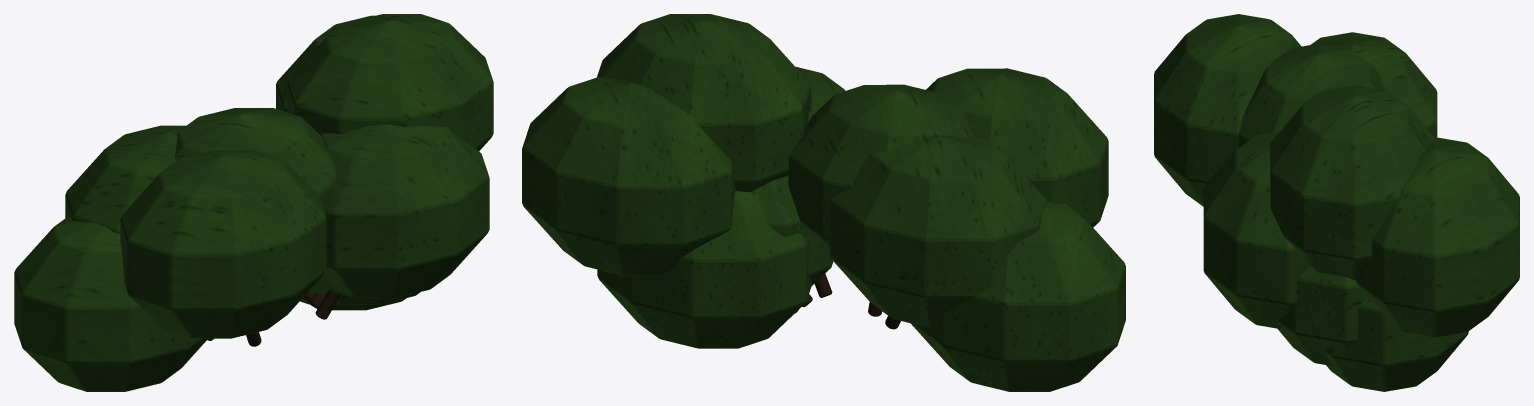
The model's file is PROP-7FFB497B4844_lod1.glb.
The picture shows the model from 3 angles, left to right: view 1: azimuth 30°, elevation 25°; view 2: azimuth 150°, elevation 25°; view 3: azimuth 270°, elevation 25°; orthographic projection. The views are drawn at different scales.
Visible parts, largest first — view 1: foliage.011, plant_stem.011; view 2: foliage.011, plant_stem.011; view 3: foliage.011.
Part boxes in pixels (x1=…): foliage.011: x1=14, y1=14, x2=493, y2=391; plant_stem.011: x1=207, y1=290, x2=341, y2=346; foliage.011: x1=522, y1=14, x2=1125, y2=391; plant_stem.011: x1=795, y1=274, x2=900, y2=329; foliage.011: x1=1154, y1=14, x2=1519, y2=391.
Bounding box in the file's own units: 1.51 × 0.8255 × 0.938.
Materials: 2 (2 with a texture image).
